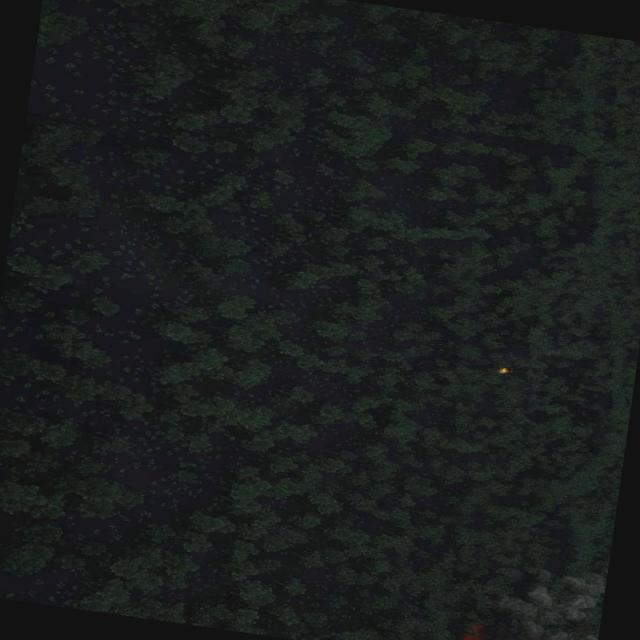fire: (498, 368, 508, 373)
smoke: (487, 562, 607, 640), (427, 618, 489, 640)
